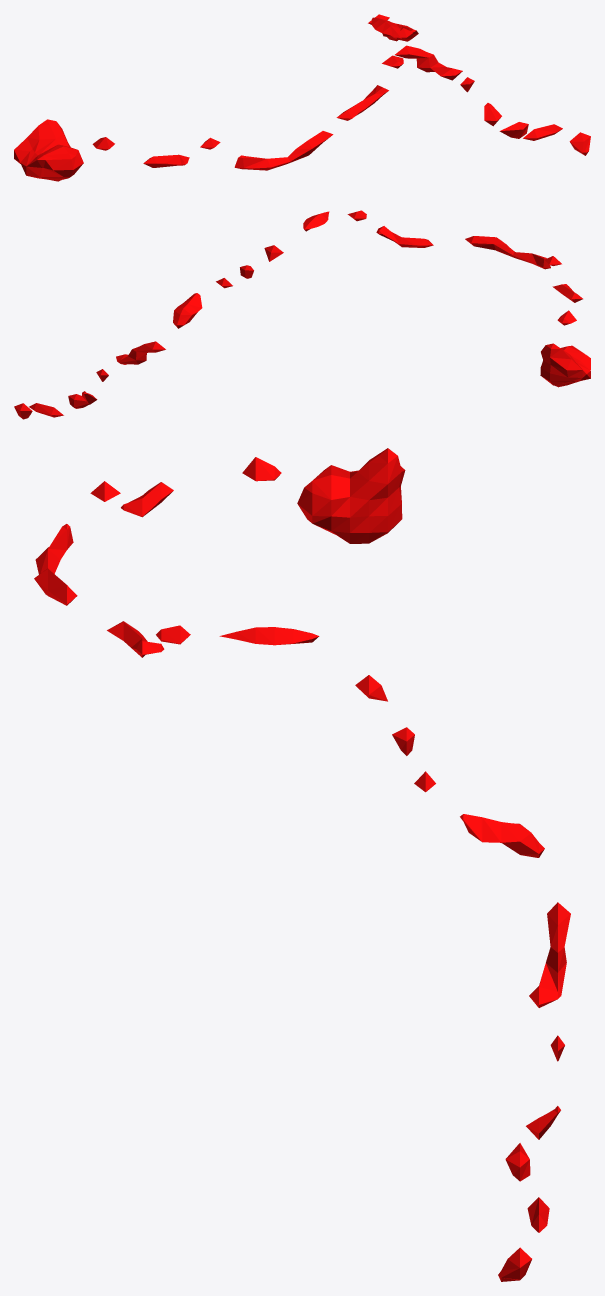
The model's file is ycbX_coarse.dae.
3 views of the same model, one above another, from view 1: azimuth 30°, elevation 25°; view 2: azimuth 150°, elevation 25°; view 3: azimuth 270°, elevation 25° (orthographic). The views are drawn at different scales.
Visible parts, largest first — view 1: ycbX; view 2: ycbX; view 3: ycbX.
Part boxes in pixels (left/top/right/bottom): ycbX: left=14, top=14, right=590, bottom=181; ycbX: left=14, top=210, right=590, bottom=419; ycbX: left=34, top=448, right=570, bottom=1281.
Bounding box in the file's own units: 487 × 187 × 211.
